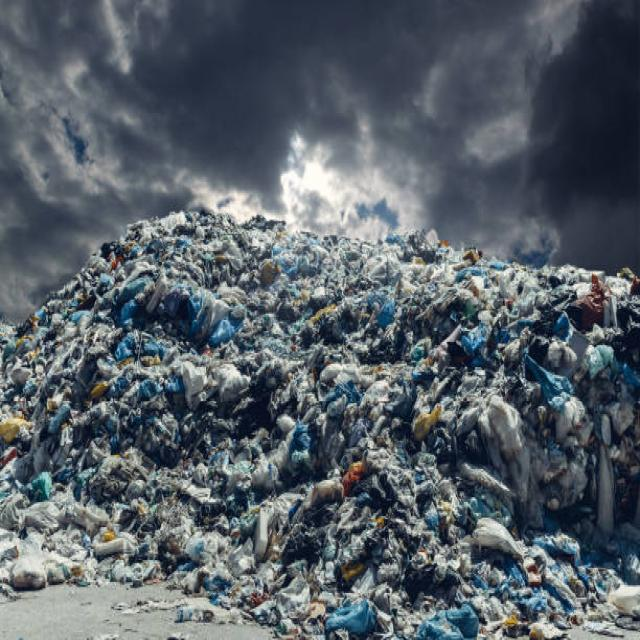trash: (5, 196, 631, 602)
